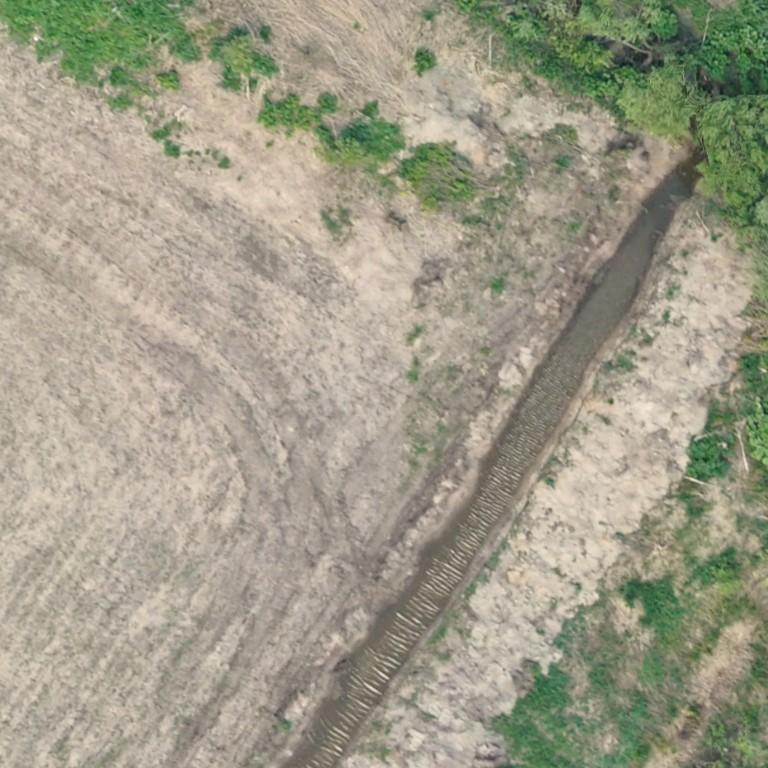hogweed: (0, 0, 200, 79), (341, 118, 403, 156), (687, 437, 726, 478), (156, 72, 178, 90), (111, 69, 125, 82)
